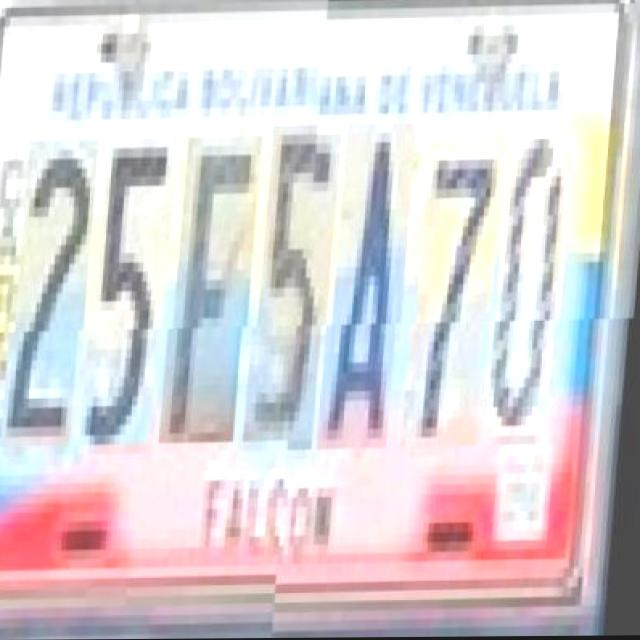0: (494, 131, 577, 439)
2: (13, 149, 101, 456)
5: (255, 135, 345, 453), (92, 148, 180, 455)
7: (413, 142, 508, 450)
a: (330, 125, 420, 452)
f: (171, 146, 265, 454)
